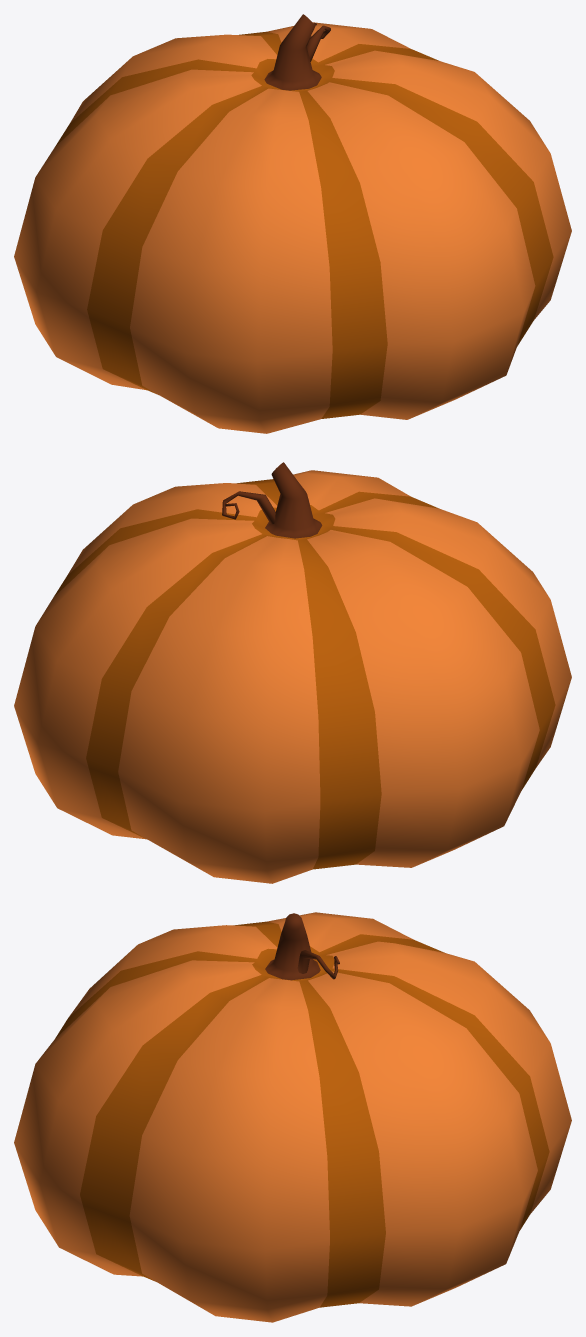
Rendered from Pumpkin.fbx.
The picture shows the model from 3 angles, top to bottom: view 1: azimuth 30°, elevation 25°; view 2: azimuth 150°, elevation 25°; view 3: azimuth 270°, elevation 25°; orthographic projection.
Visible parts, largest first — view 1: Pumpkin; view 2: Pumpkin; view 3: Pumpkin.
Part boxes in pixels (x1=…): Pumpkin: x1=14, y1=14, x2=571, y2=433; Pumpkin: x1=14, y1=462, x2=571, y2=883; Pumpkin: x1=14, y1=912, x2=571, y2=1322.
Size of the model in its own units: 206 by 143 by 207.
